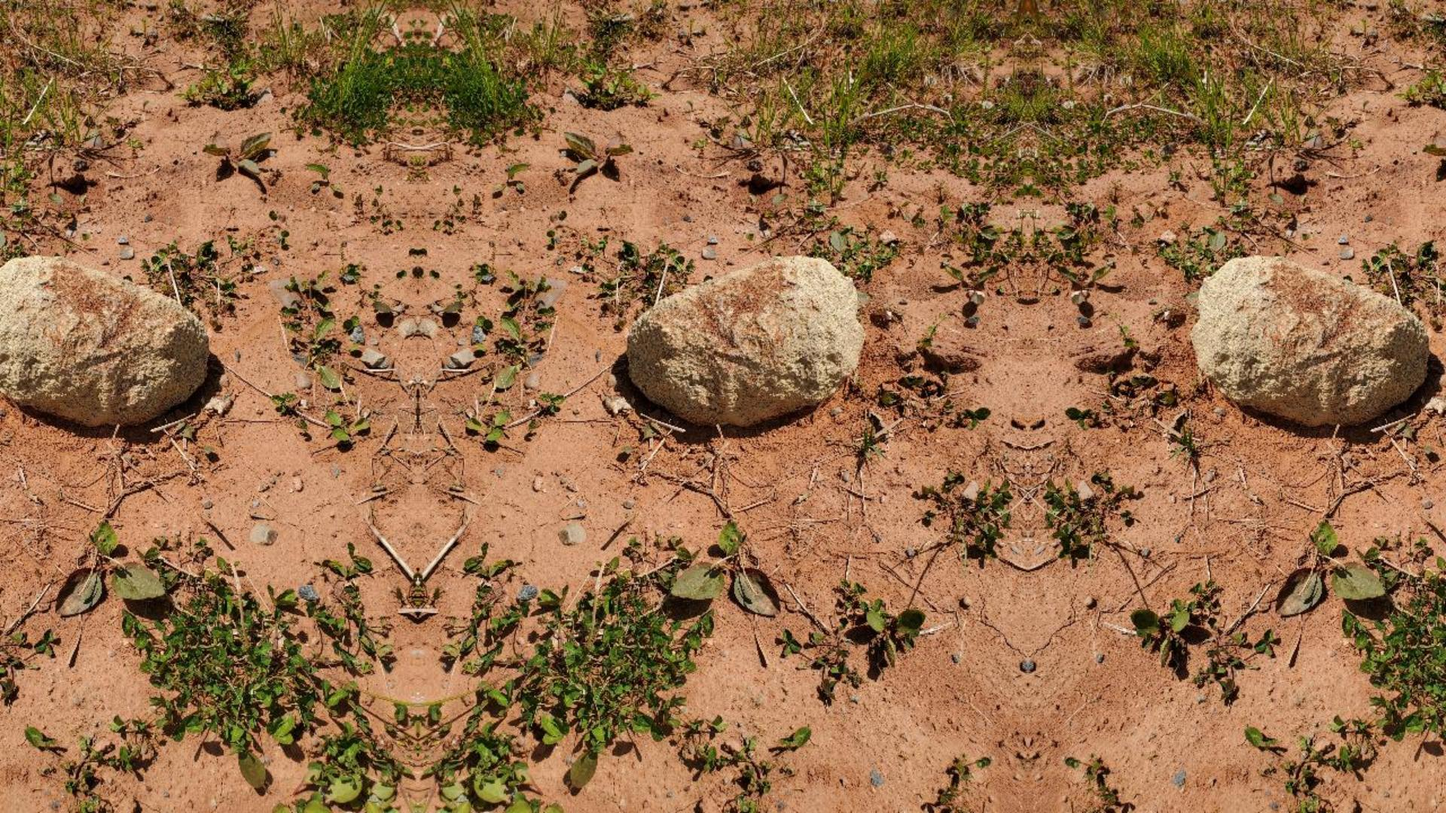rock: (627, 256, 864, 427), (1191, 256, 1428, 426), (0, 256, 208, 426)
